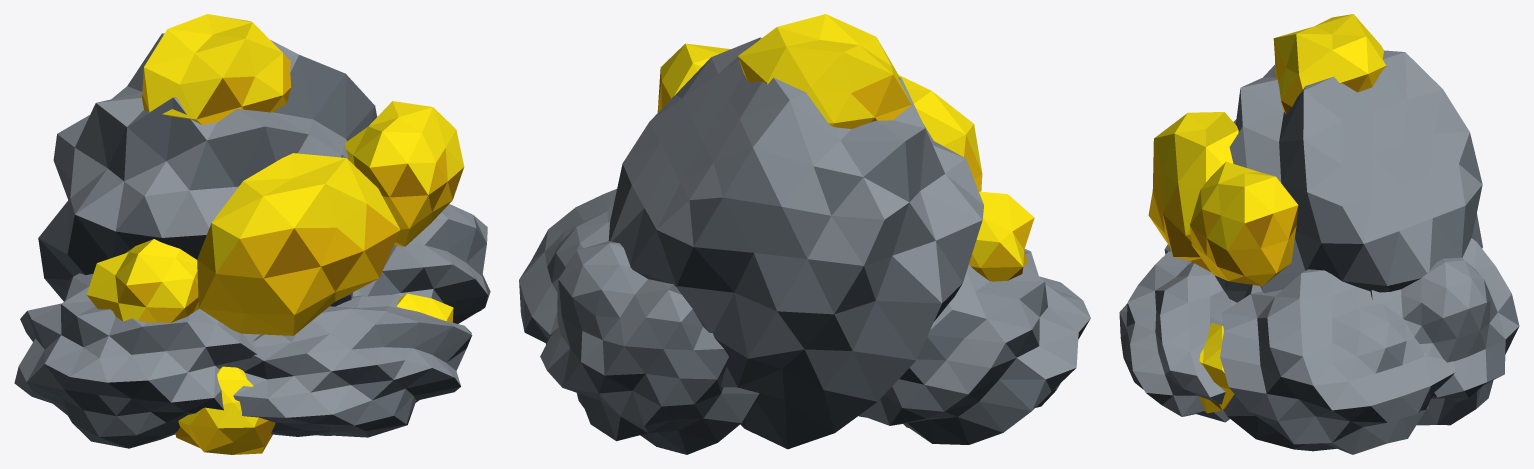
The model's file is node-sulfur.glb.
3 renders of one model, left to right at view 1: azimuth 30°, elevation 25°; view 2: azimuth 150°, elevation 25°; view 3: azimuth 270°, elevation 25°, orthographic. The views are drawn at different scales.
Visible parts, largest first — view 1: node-sulfur-stone, node-sulfur-mineral; view 2: node-sulfur-stone, node-sulfur-mineral; view 3: node-sulfur-stone, node-sulfur-mineral.
Part boxes in pixels (bbox=[...]): node-sulfur-stone: bbox=[14, 33, 490, 448]; node-sulfur-mineral: bbox=[86, 14, 464, 454]; node-sulfur-stone: bbox=[519, 37, 1090, 454]; node-sulfur-mineral: bbox=[657, 14, 1034, 281]; node-sulfur-stone: bbox=[1119, 50, 1519, 454]; node-sulfur-mineral: bbox=[1148, 14, 1386, 413].
Bounding box in the file's own units: 2.55 × 1.9 × 1.97.
